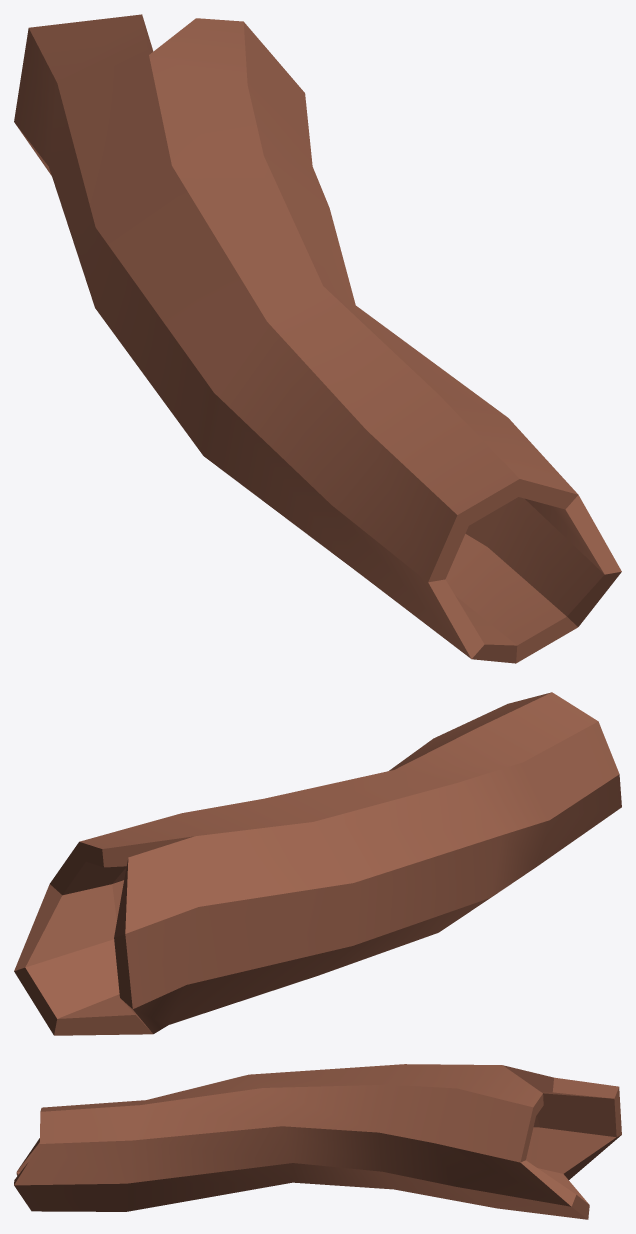
File: Mesh_Hikari_Log02.fbx
3 views of the same model, one above another, from view 1: azimuth 30°, elevation 25°; view 2: azimuth 150°, elevation 25°; view 3: azimuth 270°, elevation 25° (orthographic). The views are drawn at different scales.
Visible parts, largest first — view 1: polySurface7; view 2: polySurface7; view 3: polySurface7.
Part boxes in pixels (bbox=[...]): polySurface7: bbox=[14, 14, 621, 663]; polySurface7: bbox=[14, 692, 621, 1035]; polySurface7: bbox=[14, 1064, 621, 1219].
Bounding box in the file's own units: 1.27 × 1.01 × 3.55.
